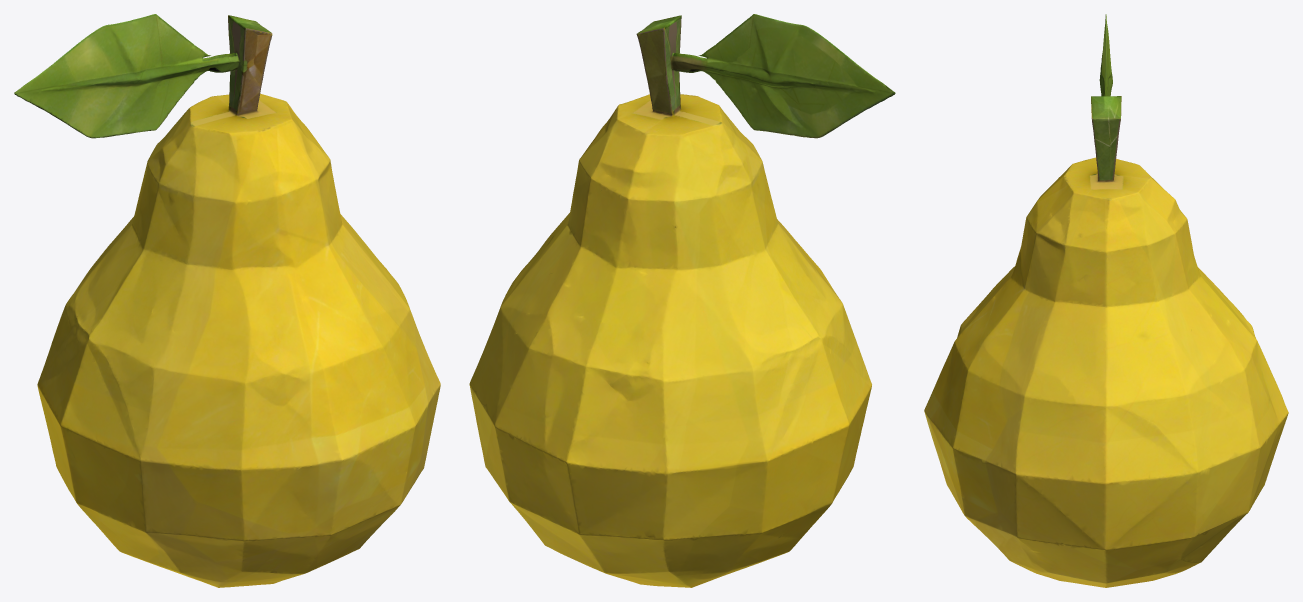
Rendered from grucha2.glb.
3 views of the same model, side by side, from view 1: azimuth 30°, elevation 25°; view 2: azimuth 150°, elevation 25°; view 3: azimuth 270°, elevation 25° (orthographic). The views are drawn at different scales.
Bounding box in the file's own units: 1.45 × 1.99 × 1.32.
Materials: 1 (1 with a texture image).
